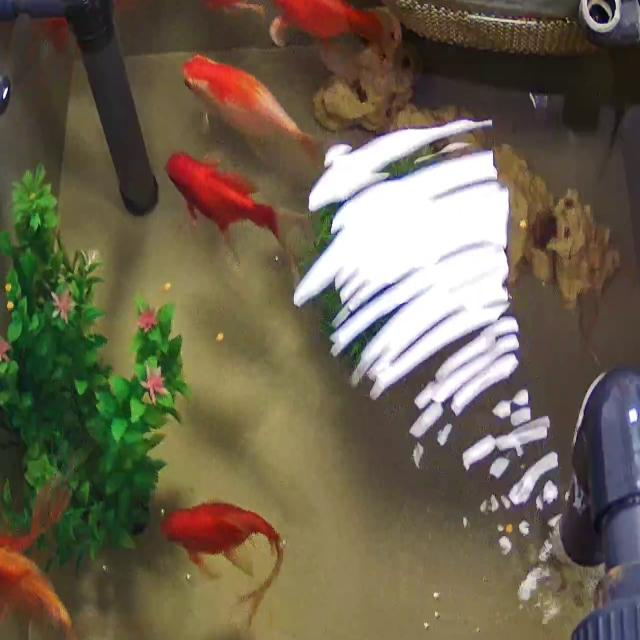fish: (153, 476, 290, 622), (164, 152, 305, 272), (182, 54, 319, 166), (0, 516, 82, 640), (268, 0, 406, 55), (168, 0, 262, 20)
